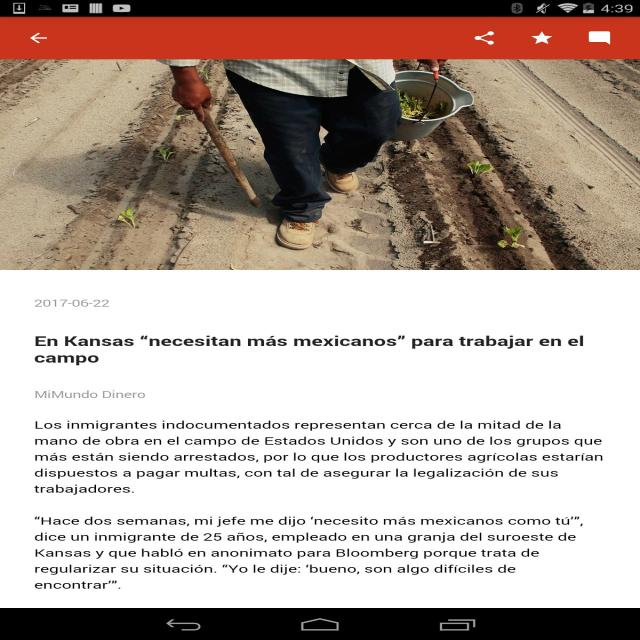button: (582, 26, 619, 50), (526, 27, 560, 50), (466, 28, 501, 50), (28, 28, 54, 47)
heading: (32, 332, 586, 366)
image: (0, 59, 640, 270)
label: (33, 388, 148, 402), (34, 295, 112, 309)
text: (31, 419, 606, 495), (33, 513, 596, 590)
